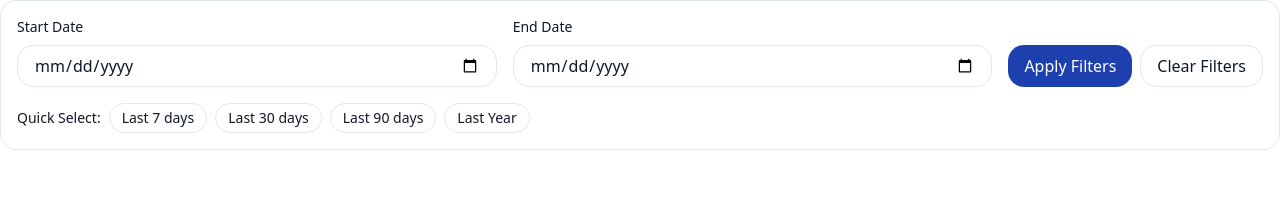
DateRangeFilter › Clear Button › should clear dates when Clear is clicked
In the date field labelled "Start Date": [257, 66] box 17,45 -> 497,87, type "2024-01-01"
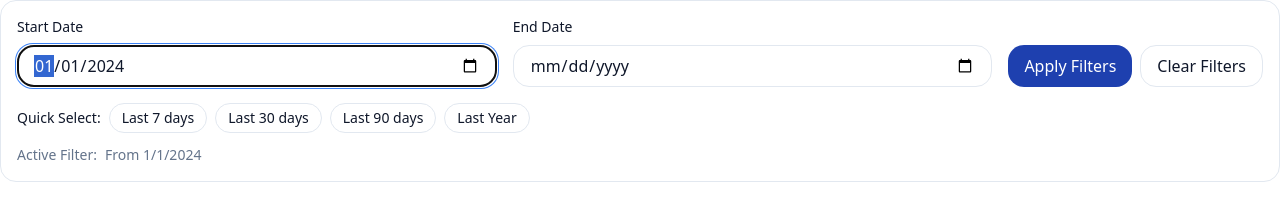
In the date field labelled "End Date": [753, 66] box 513,45 -> 992,87, type "2024-01-31"
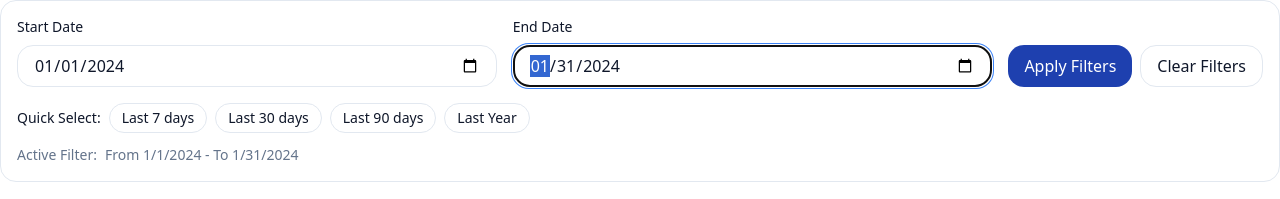
Click the button "Clear Filters": [1202, 66] box 1140,45 -> 1263,87
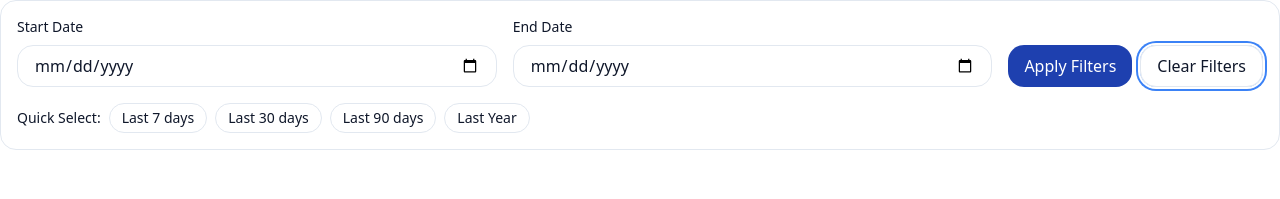
Now the date field labelled "Start Date" is empty, box 17,45 -> 497,87
Now the date field labelled "End Date" is empty, box 513,45 -> 992,87
